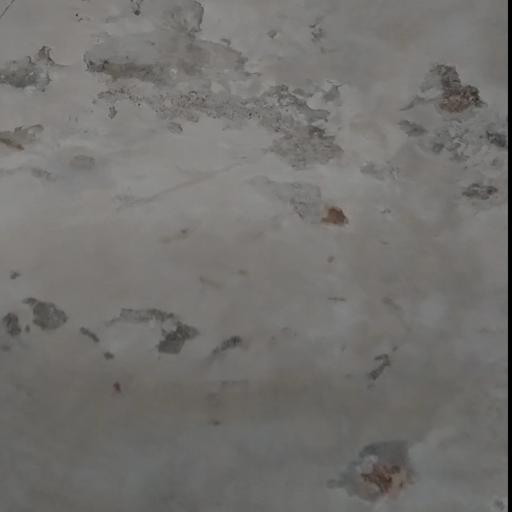peeling: (7, 0, 512, 512)
